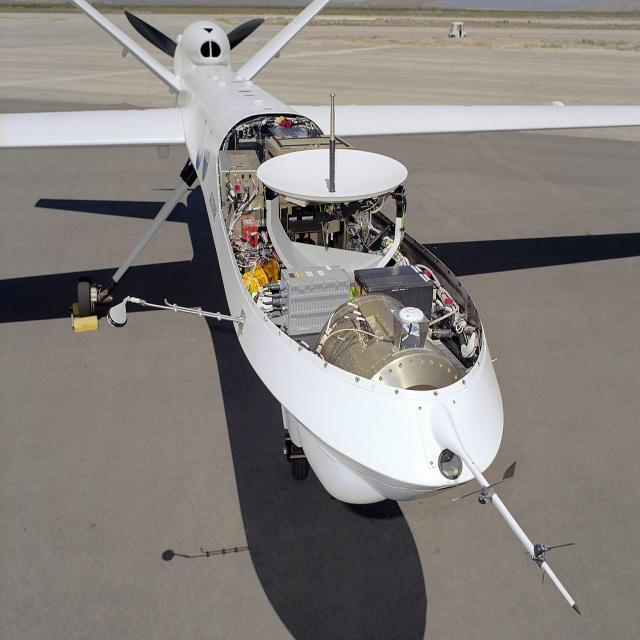MIL_Plane: (0, 1, 640, 616)
